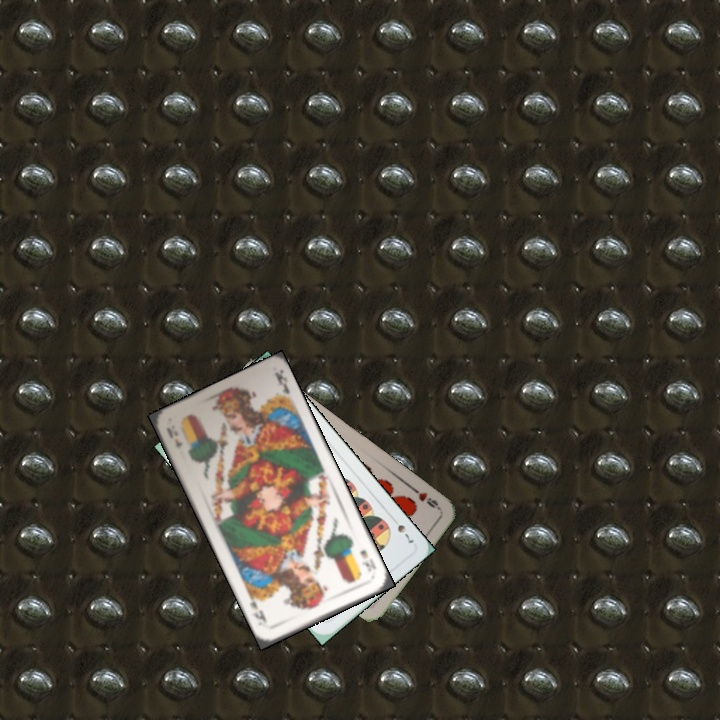EK: (356, 545, 379, 574), (162, 423, 186, 450)
H9: (407, 483, 442, 512)
S7: (393, 520, 417, 546)
